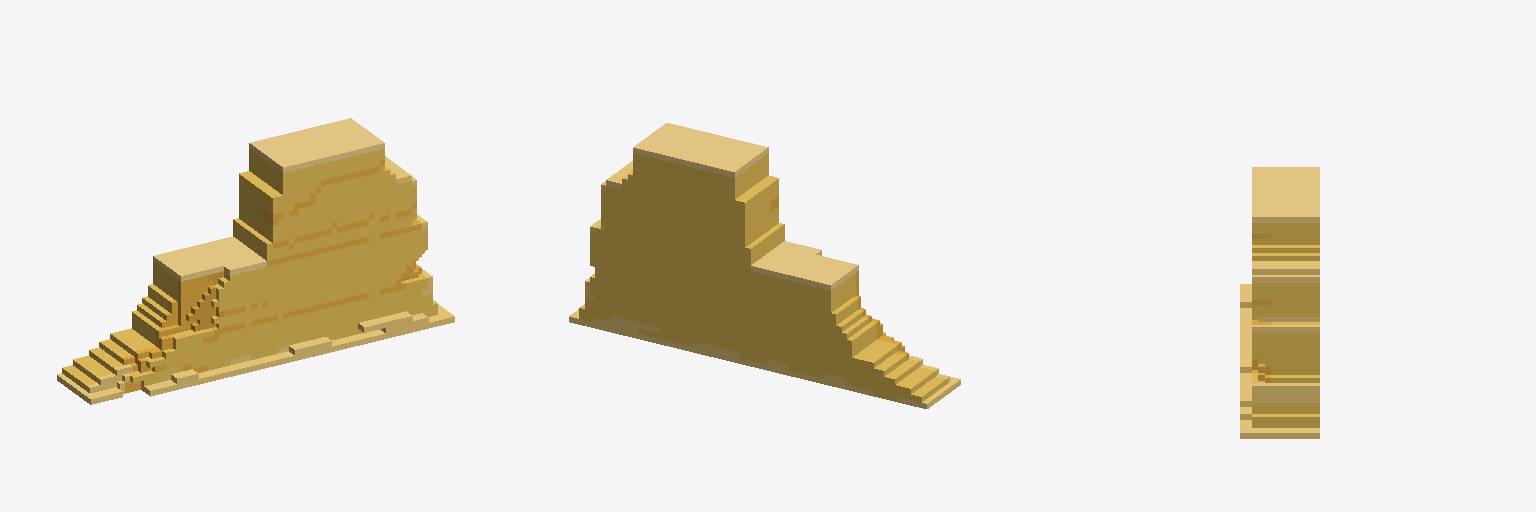
3 renders of one model, left to right at view 1: azimuth 30°, elevation 25°; view 2: azimuth 150°, elevation 25°; view 3: azimuth 270°, elevation 25°, orthographic.
Bounding box in the file's own units: 67 × 34 × 13.
1 materials, 1 textured.